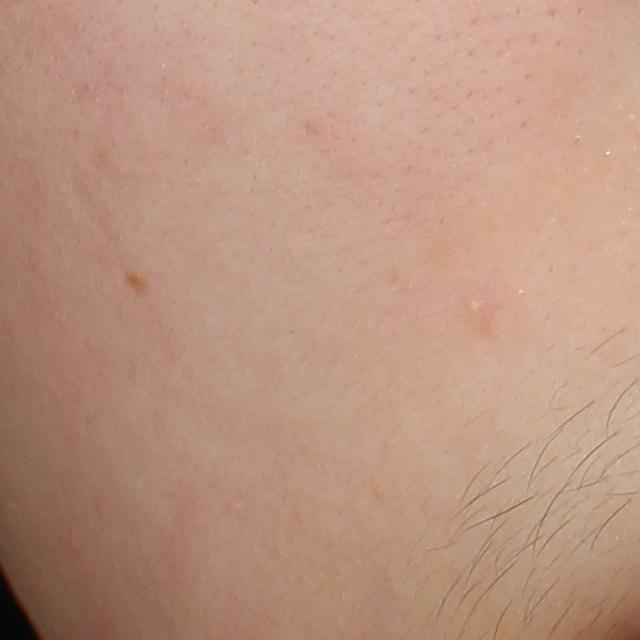nevus: (123, 268, 151, 296)
